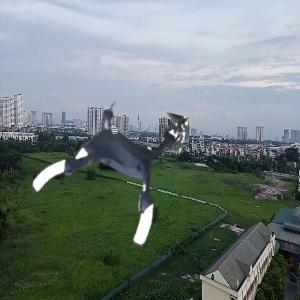drone: (37, 99, 177, 239)
